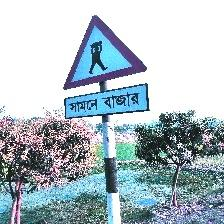Market-in-front: (62, 14, 150, 119)
